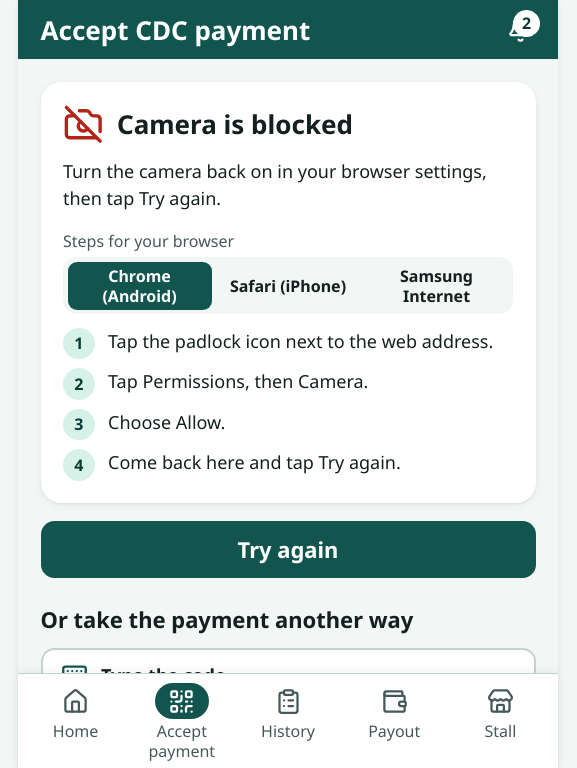
Scenario: Pay flow › denied permission shows steps in three browser tabs
The width and height of the screenshot is (577, 768).
Click the tab "Samsung Internet" at (436, 286), box [364, 262, 508, 310]
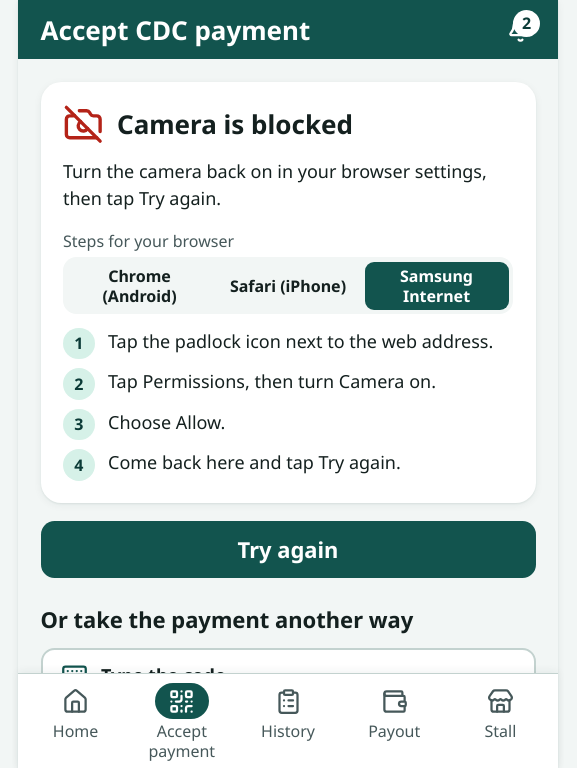
Expected: the text "Tap Permissions, then turn Camera on." is shown, [108, 368, 436, 400]
